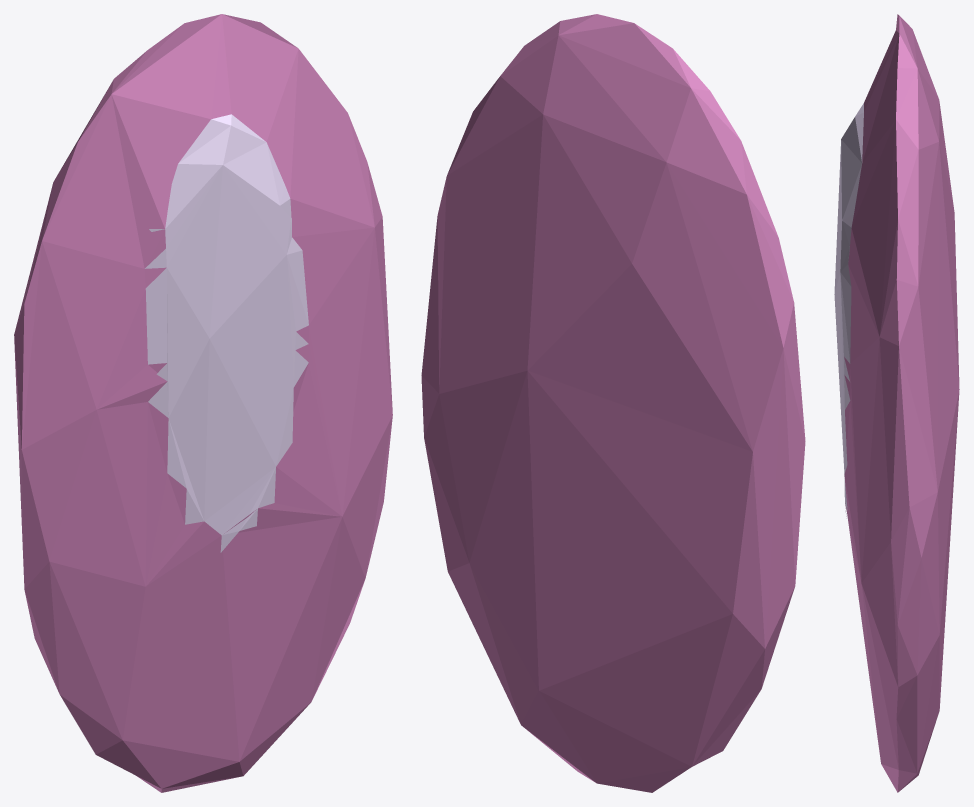
The model's file is spirit_bloom_petal.glb.
The picture shows the model from 3 angles, left to right: view 1: azimuth 30°, elevation 25°; view 2: azimuth 150°, elevation 25°; view 3: azimuth 270°, elevation 25°; orthographic projection. The views are drawn at different scales.
Parts seen in each view (by area): view 1: spirit_bloom_petal; view 2: spirit_bloom_petal; view 3: spirit_bloom_petal.
Boxes of the visible parts, x1=… form: spirit_bloom_petal: x1=14, y1=14, x2=392, y2=792; spirit_bloom_petal: x1=421, y1=14, x2=805, y2=792; spirit_bloom_petal: x1=834, y1=14, x2=959, y2=792.
Bounding box in the file's own units: 0.2522 × 0.4913 × 0.0742.
